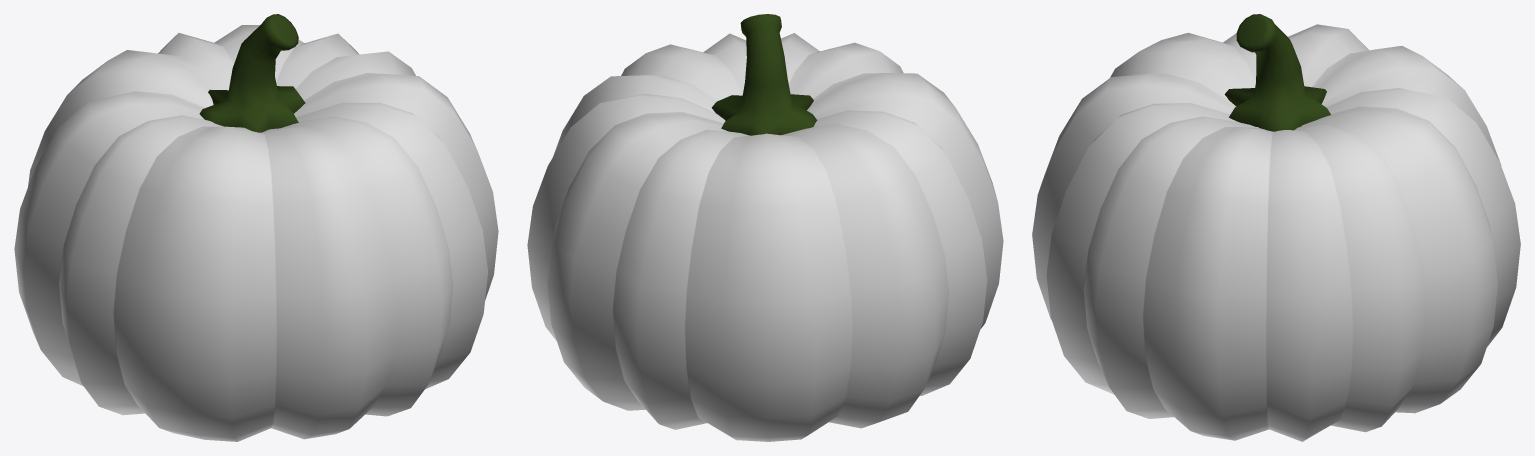
Rendered from тыква.glb.
The picture shows the model from 3 angles, left to right: view 1: azimuth 30°, elevation 25°; view 2: azimuth 150°, elevation 25°; view 3: azimuth 270°, elevation 25°; orthographic projection. The views are drawn at different scales.
Parts seen in each view (by area): view 1: Pumpkin Green; view 2: Pumpkin Green; view 3: Pumpkin Green.
Part boxes in pixels (box(x1,y1,x2,y2)): Pumpkin Green: box(14, 14, 498, 441); Pumpkin Green: box(527, 14, 1003, 441); Pumpkin Green: box(1032, 14, 1520, 441).
Size of the model in its own units: 0.2077 by 0.1745 by 0.2099.
